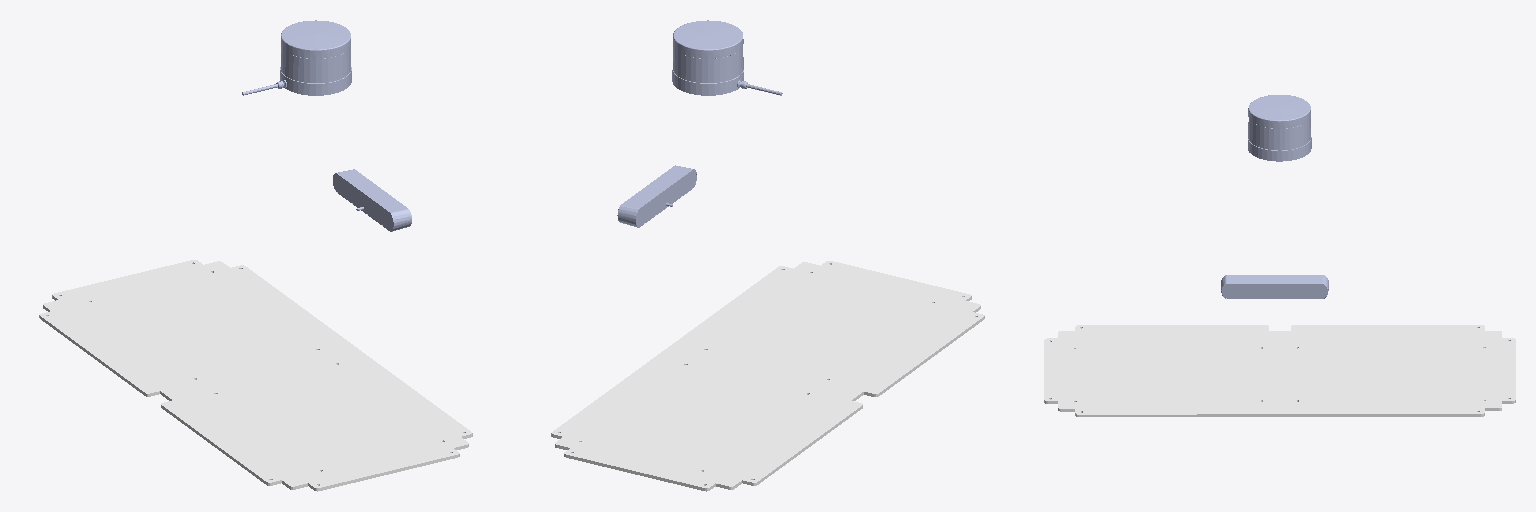
The robot description file, URDF, robot "wamv_nctu_description":
<?xml version="1.0" encoding="utf-8"?>
<!-- This URDF was automatically created by SolidWorks to URDF Exporter! Originally created by [author] ([email redacted]) 
     Commit Version: 1.5.1-0-g916b5db  Build Version: 1.5.7152.31018
     For more information, please see http://wiki.ros.org/sw_urdf_exporter -->
<robot
  name="wamv_nctu_description">
  <link
    name="base_link">
    <inertial>
      <origin
        xyz="-0.152491486793169 -0.000202900244282502 0.249876233087952"
        rpy="0 0 0" />
      <mass
        value="1291.18008913133" />
      <inertia
        ixx="31.0772824681247"
        ixy="-0.138270805196472"
        ixz="-29.3738336489099"
        iyy="867.957353843487"
        iyz="-0.000664284866747277"
        izz="867.687769253203" />
    </inertial>
    <visual>
      <origin
        xyz="0 0 0"
        rpy="0 0 0" />
      <geometry>
        <mesh
          filename="package://wamv_nctu_description/meshes/base_link.STL" />
      </geometry>
      <material
        name="">
        <color
          rgba="0.54 0.695 0.9375 1" />
      </material>
    </visual>
    <collision>
      <origin
        xyz="0 0 0"
        rpy="0 0 0" />
      <geometry>
        <mesh
          filename="package://wamv_nctu_description/meshes/base_link.STL" />
      </geometry>
    </collision>
  </link>
  <link
    name="imu_link">
    <inertial>
      <origin
        xyz="-0.3305 -0.118501057166427 0.0024999999999995"
        rpy="0 0 0" />
      <mass
        value="1.50212838055095" />
      <inertia
        ixx="0.0138452428153508"
        ixy="2.8106978189989E-17"
        ixz="2.45406011179555E-20"
        iyy="0.0690689140236707"
        iyz="-9.07713004494322E-20"
        izz="0.0829078979707692" />
    </inertial>
    <visual>
      <origin
        xyz="0 0 0"
        rpy="0 0 0" />
      <geometry>
        <mesh
          filename="package://wamv_nctu_description/meshes/imu_link.STL" />
      </geometry>
      <material
        name="">
        <color
          rgba="1 1 1 0.3" />
      </material>
    </visual>
    <collision>
      <origin
        xyz="0 0 0"
        rpy="0 0 0" />
      <geometry>
        <mesh
          filename="package://wamv_nctu_description/meshes/imu_link.STL" />
      </geometry>
    </collision>
  </link>
  <joint
    name="imu_joint"
    type="fixed">
    <origin
      xyz="0.746929659577344 0.329202375203387 1.29117907881372"
      rpy="-3.14008108175084 -0.00101786773359974 1.57080472384134" />
    <parent
      link="base_link" />
    <child
      link="imu_link" />
    <axis
      xyz="0 0 0" />
  </joint>
  <link
    name="velodyne_link">
    <inertial>
      <origin
        xyz="-0.000294776217511061 4.33124102195886E-05 0.0357745302853218"
        rpy="0 0 0" />
      <mass
        value="0.585082027162697" />
      <inertia
        ixx="0.000629066890293963"
        ixy="-9.08011678608794E-12"
        ixz="6.85330501596087E-08"
        iyy="0.000630263825979549"
        iyz="-5.01292370584132E-08"
        izz="0.00074925163854262" />
    </inertial>
    <visual>
      <origin
        xyz="0 0 0"
        rpy="0 0 0" />
      <geometry>
        <mesh
          filename="package://wamv_nctu_description/meshes/velodyne_link.STL" />
      </geometry>
      <material
        name="">
        <color
          rgba="0.792156862745098 0.819607843137255 0.933333333333333 1" />
      </material>
    </visual>
    <collision>
      <origin
        xyz="0 0 0"
        rpy="0 0 0" />
      <geometry>
        <mesh
          filename="package://wamv_nctu_description/meshes/velodyne_link.STL" />
      </geometry>
    </collision>
  </link>
  <joint
    name="velodyne_joint"
    type="fixed">
    <origin
      xyz="0.726949065473584 -0.00179242971869779 1.7318731085397"
      rpy="0.00101786889643677 0.00151157105591378 0" />
    <parent
      link="base_link" />
    <child
      link="velodyne_link" />
    <axis
      xyz="0 0 0" />
  </joint>
  <link
    name="mid_zed_link">
    <inertial>
      <origin
        xyz="-0.015884100072258 2.32311033430965E-09 4.38187281126545E-06"
        rpy="0 0 0" />
      <mass
        value="0.153126606897249" />
      <inertia
        ixx="0.00037584743344712"
        ixy="1.68865790722203E-13"
        ixz="-2.26862729197272E-09"
        iyy="2.29360906119758E-05"
        iyz="-6.58618047024287E-12"
        izz="0.000377927334724299" />
    </inertial>
    <visual>
      <origin
        xyz="0 0 0"
        rpy="0 0 0" />
      <geometry>
        <mesh
          filename="package://wamv_nctu_description/meshes/mid_zed_link.STL" />
      </geometry>
      <material
        name="">
        <color
          rgba="0.792156862745098 0.819607843137255 0.933333333333333 1" />
      </material>
    </visual>
    <collision>
      <origin
        xyz="0 0 0"
        rpy="0 0 0" />
      <geometry>
        <mesh
          filename="package://wamv_nctu_description/meshes/mid_zed_link.STL" />
      </geometry>
    </collision>
  </link>
  <joint
    name="mid_zed_joint"
    type="fixed">
    <origin
      xyz="0.831886909515321 -0.00953532165075329 1.52523188250697"
      rpy="0.00101786886437734 0.00151157105591298 0" />
    <parent
      link="base_link" />
    <child
      link="mid_zed_link" />
    <axis
      xyz="0 0 0" />
  </joint>
</robot>

--- What the picture shows (computed from the rendered views, not written in the file) ---
Views: 3 orthographic renders of the robot side by side, from view 1: azimuth 30°, elevation 25°; view 2: azimuth 150°, elevation 25°; view 3: azimuth 270°, elevation 25°.
Model wamv_nctu_description with 4 links and 3 joints (3 fixed), rooted at base_link, posed every joint at zero.
Visible links, largest first — view 1: imu_link, velodyne_link, mid_zed_link; view 2: imu_link, velodyne_link, mid_zed_link; view 3: imu_link, velodyne_link, mid_zed_link.
Boxes of the visible links, x1,y1,x2,y2 form: imu_link: (39, 260, 472, 491); velodyne_link: (242, 20, 351, 95); mid_zed_link: (333, 169, 411, 231); imu_link: (551, 261, 984, 491); velodyne_link: (672, 20, 782, 95); mid_zed_link: (617, 165, 696, 227); imu_link: (1044, 325, 1515, 416); velodyne_link: (1248, 95, 1311, 161); mid_zed_link: (1221, 275, 1328, 298).
Bounding box of the posed robot: 0.3741 × 0.76 × 0.5192 m (x, y, z).
Meshes: 4 distinct files referenced, 3 mesh visuals loaded (3 binary STL); not drawn: 1 (reference not matched to a file when rendering).